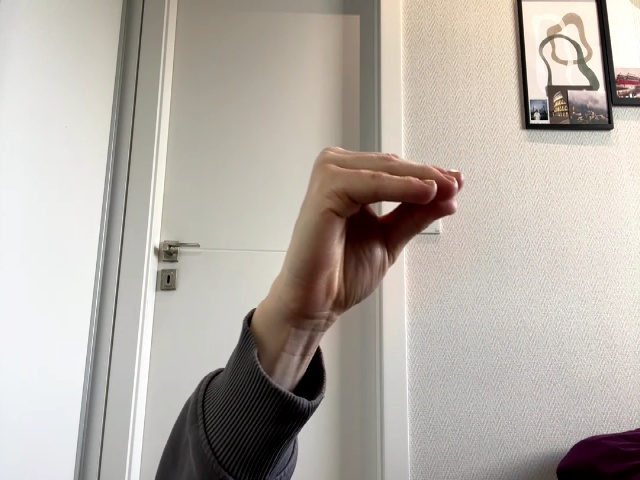E: (288, 146, 463, 318)
